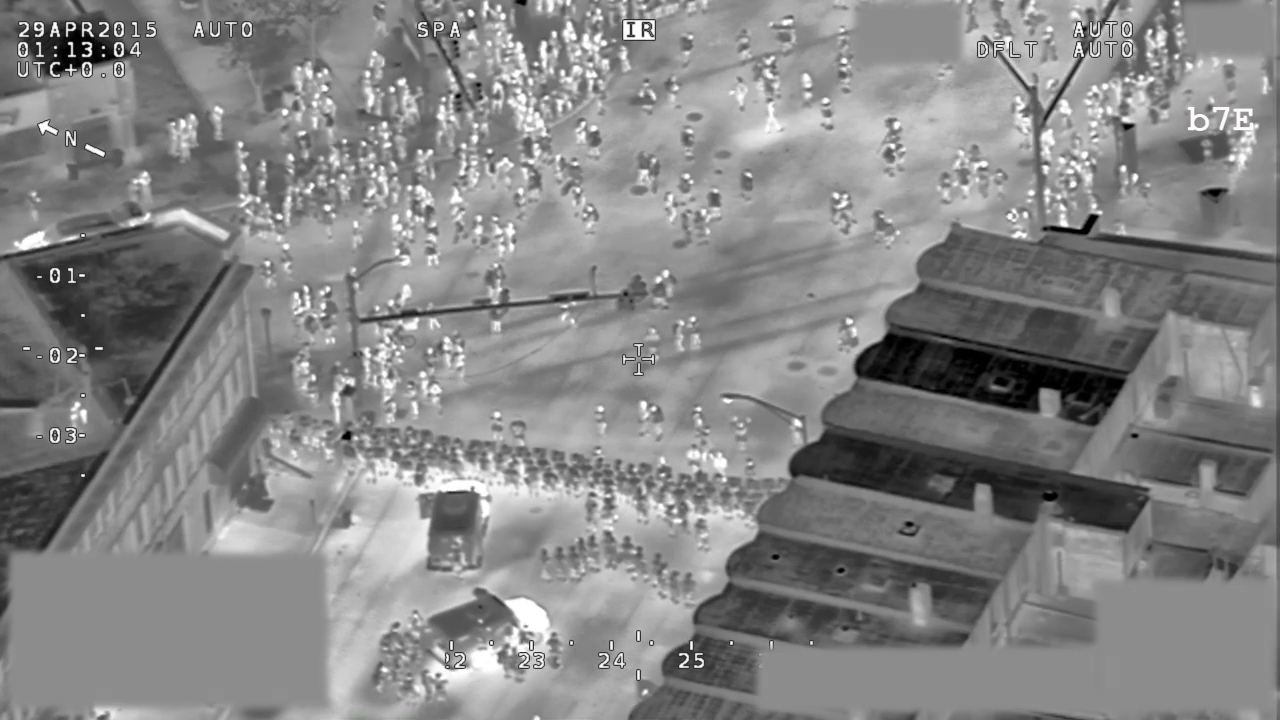vehicle: (420, 583, 552, 670), (415, 474, 493, 577), (17, 199, 152, 250)
